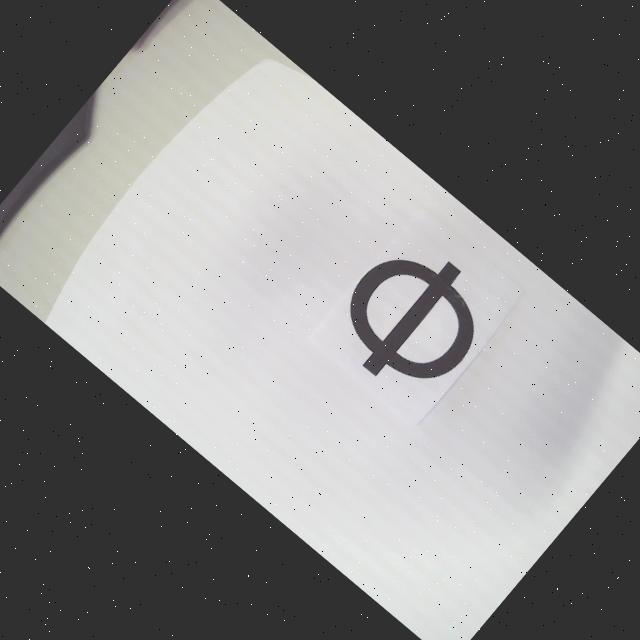PHI: (318, 224, 506, 413)
